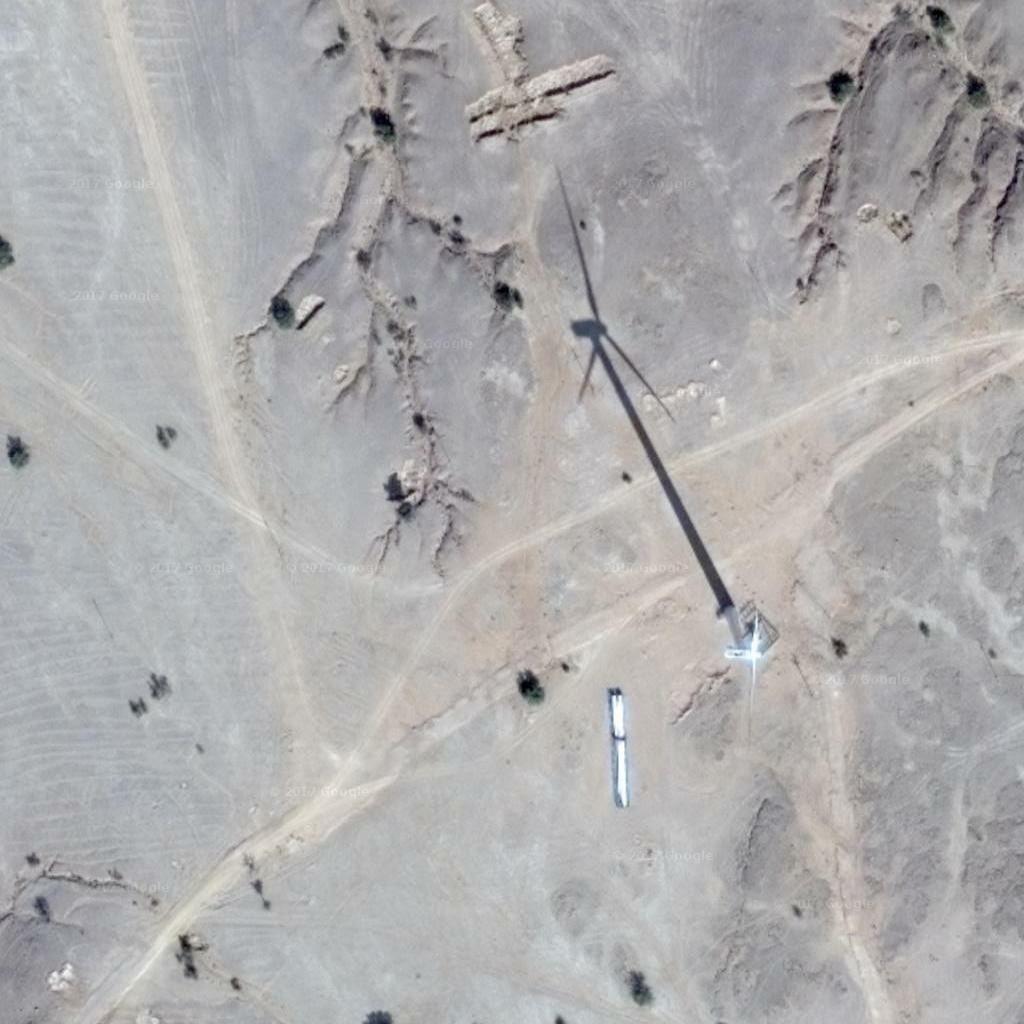Windmill: (537, 171, 746, 601)
